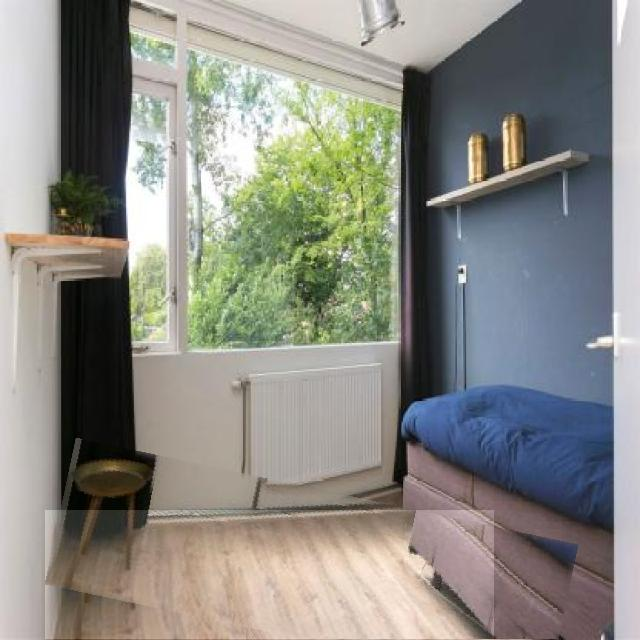floor: (45, 510, 494, 640)
